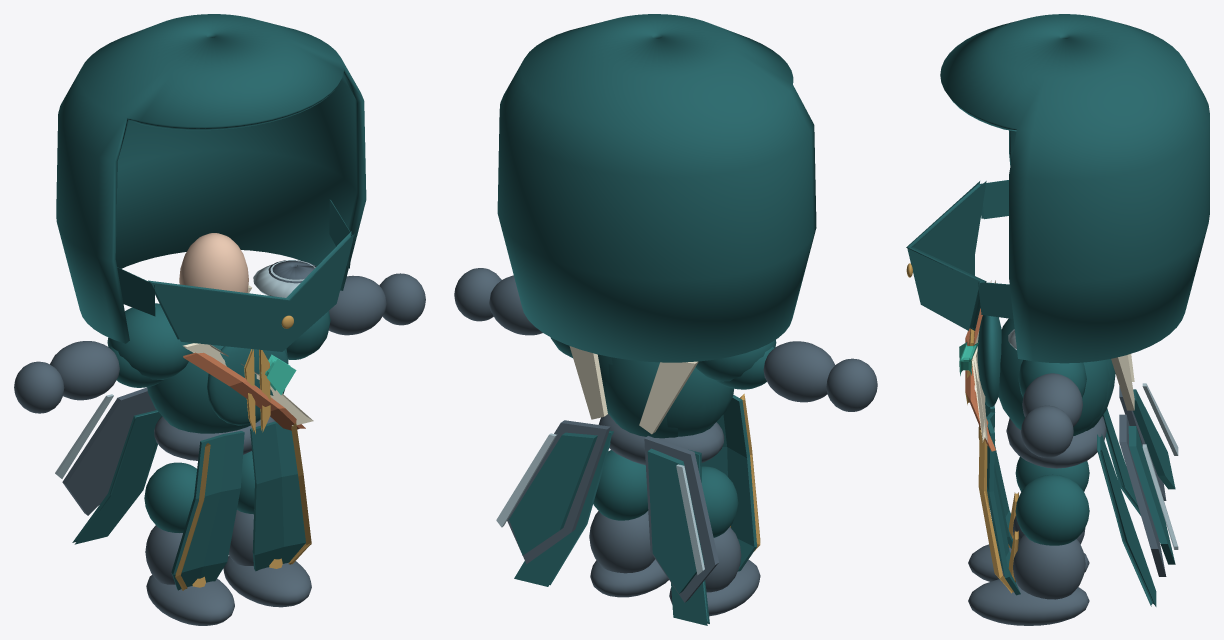
Rendered from rogue-v3.glb.
The picture shows the model from 3 angles, left to right: view 1: azimuth 30°, elevation 25°; view 2: azimuth 150°, elevation 25°; view 3: azimuth 270°, elevation 25°; orthographic projection. The views are drawn at different scales.
Visible parts, largest first — view 1: TLL_head, TLL_hips, TLL_chest, Jade Rogue twin tail silhouette -1, TLL_upperarmr, Split stealth tail, TLL_lowerarmr, TLL_footr, TLL_footl, TLL_upperlegr, TLL_lowerarml, TLL_handr (+10 smaller); view 2: TLL_head, TLL_hips, TLL_chest, Jade Rogue twin teal tail 1, Jade Rogue twin teal tail -1, TLL_lowerarmr, TLL_lowerlegl, Jade Rogue twin tail silhouette -1, TLL_upperlegl, Jade Rogue twin tail silhouette 1, Split stealth tail.001, TLL_handr (+12 smaller); view 3: TLL_head, TLL_chest, TLL_hips, TLL_upperlegl, TLL_lowerlegl, TLL_footl, Split stealth tail.001, TLL_handl, TLL_lowerarml, Jade Rogue twin teal tail 1, Jade Rogue twin tail silhouette 1, Jade Rogue twin teal tail -1 (+9 smaller).
Part boxes in pixels (x1,y1,x2,y2): TLL_head: [56, 14, 366, 351]; TLL_hips: [154, 416, 311, 590]; TLL_chest: [147, 233, 305, 433]; Jade Rogue twin tail silhouette -1: [62, 387, 156, 515]; TLL_upperarmr: [107, 303, 193, 387]; Split stealth tail: [72, 410, 161, 544]; TLL_lowerarmr: [50, 341, 119, 400]; TLL_footr: [146, 574, 234, 625]; TLL_footl: [223, 556, 311, 607]; TLL_upperlegr: [144, 462, 196, 532]; TLL_lowerarml: [328, 275, 386, 335]; TLL_handr: [14, 361, 64, 413]; TLL_head: [497, 14, 816, 362]; TLL_hips: [598, 393, 760, 571]; TLL_chest: [597, 354, 733, 438]; Jade Rogue twin teal tail 1: [509, 432, 597, 555]; Jade Rogue twin teal tail -1: [647, 448, 704, 593]; TLL_lowerarmr: [763, 341, 835, 402]; TLL_lowerlegl: [589, 511, 654, 573]; Jade Rogue twin tail silhouette -1: [644, 436, 718, 602]; TLL_upperlegl: [593, 450, 648, 520]; Jade Rogue twin tail silhouette 1: [507, 420, 610, 564]; Split stealth tail.001: [514, 430, 613, 586]; TLL_handr: [826, 358, 877, 411]; TLL_head: [906, 14, 1209, 363]; TLL_chest: [965, 308, 1115, 451]; TLL_hips: [978, 403, 1106, 595]; TLL_upperlegl: [1015, 474, 1089, 545]; TLL_lowerlegl: [1008, 530, 1085, 599]; TLL_footl: [968, 579, 1089, 625]; Split stealth tail.001: [1097, 434, 1156, 606]; TLL_handl: [1021, 405, 1073, 457]; TLL_lowerarml: [1022, 373, 1082, 426]; Jade Rogue twin teal tail 1: [1128, 426, 1175, 564]; Jade Rogue twin tail silhouette 1: [1119, 414, 1166, 576]; Jade Rogue twin teal tail -1: [1133, 389, 1175, 489].
Bounding box in the file's own units: 1.79 × 2.35 × 1.15.
